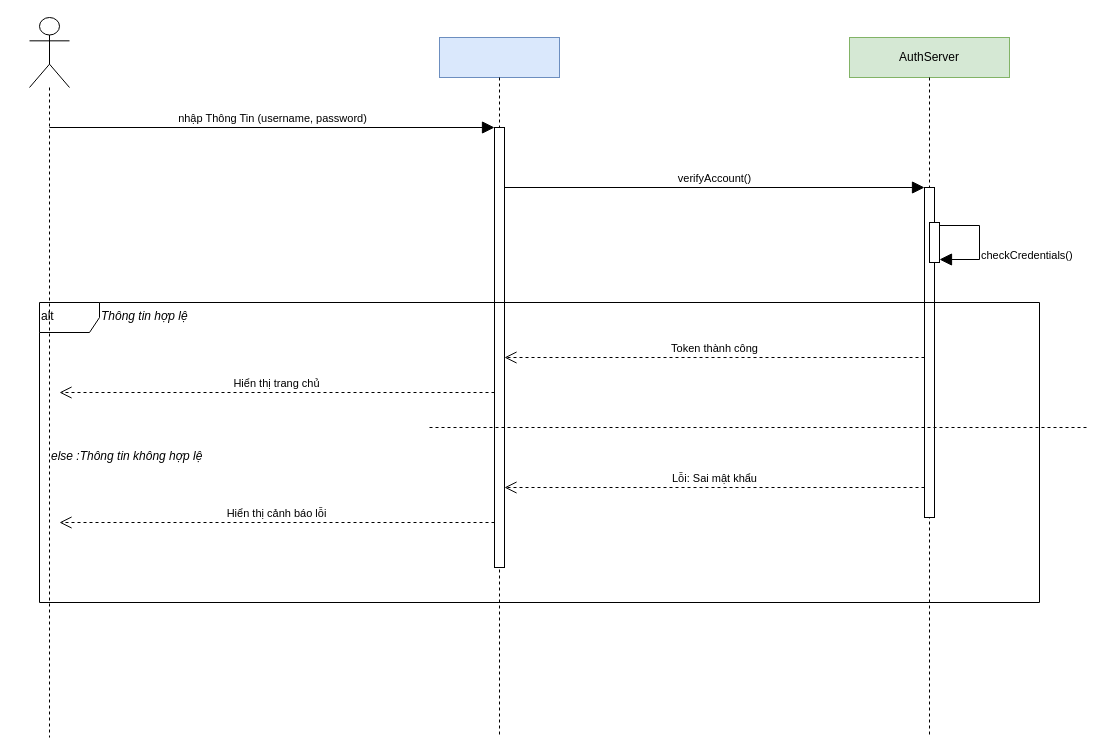
Image size: 1108x756. Some labels were removed from this diagram. Each missing label, with the box of its shape:
Khách hàng: (28, 16, 70, 88)
Màn hình UI: (438, 36, 560, 78)
